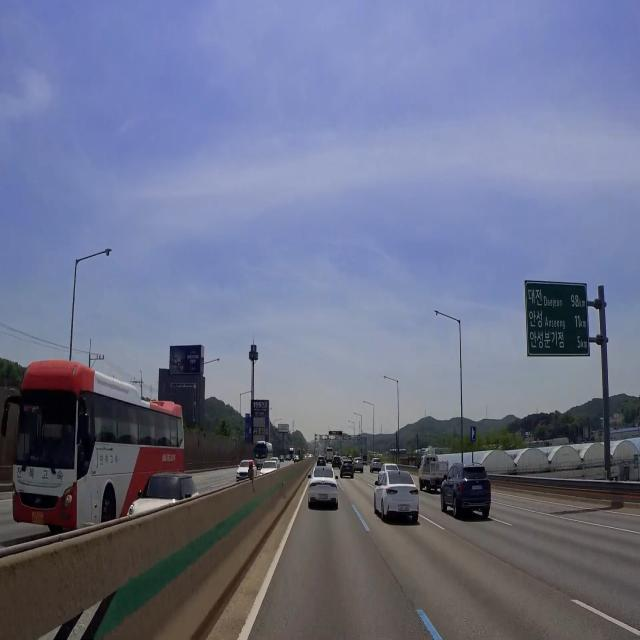car: (28, 505, 47, 532), (468, 479, 485, 495), (316, 490, 331, 506), (397, 502, 413, 515)
